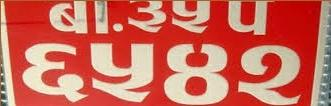2: (236, 41, 305, 106)
3: (124, 1, 169, 36)
4: (161, 40, 232, 106)
5: (88, 40, 158, 105), (168, 1, 215, 35)
6: (16, 39, 89, 104)
ba: (45, 1, 123, 36)
pa: (221, 1, 275, 38)
